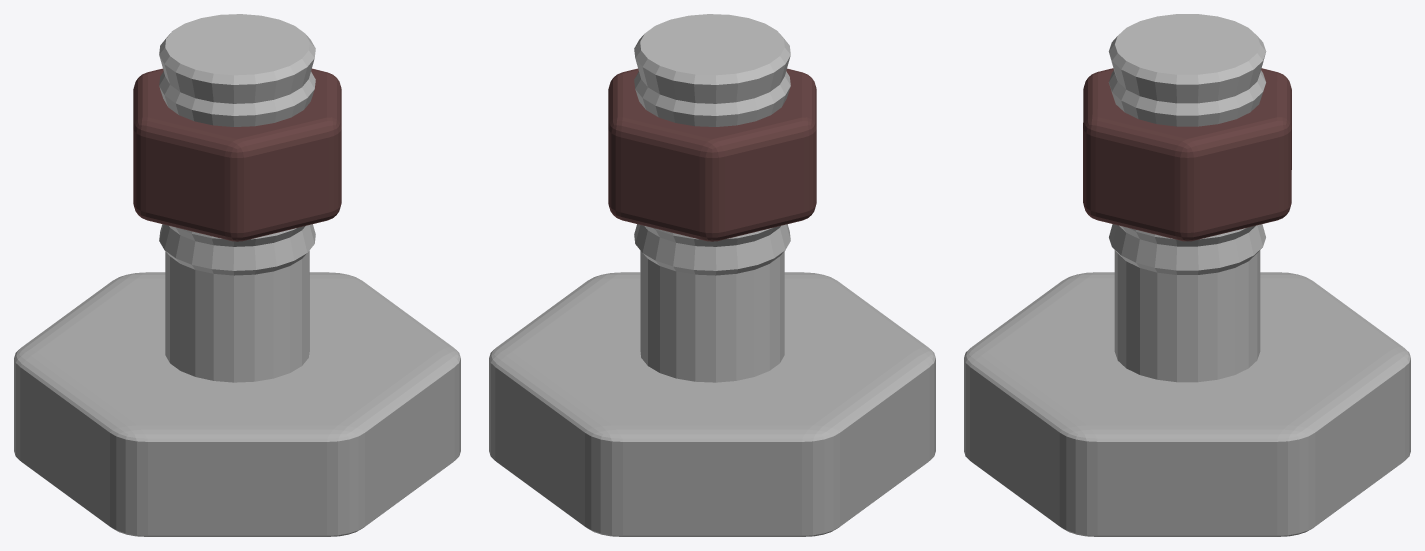
File: Bolt.fbx
The picture shows the model from 3 angles, left to right: view 1: azimuth 30°, elevation 25°; view 2: azimuth 150°, elevation 25°; view 3: azimuth 270°, elevation 25°; orthographic projection.
Visible parts, largest first — view 1: Cylinder, Cylinder.001, Cylinder.002; view 2: Cylinder, Cylinder.001, Cylinder.002; view 3: Cylinder, Cylinder.001, Cylinder.002.
Part boxes in pixels (x1,y1,x2,y2): Cylinder: (14,272,460,536); Cylinder.001: (159,14,315,382); Cylinder.002: (133,68,341,241); Cylinder: (489,272,935,536); Cylinder.001: (634,14,790,382); Cylinder.002: (608,68,816,241); Cylinder: (964,272,1410,536); Cylinder.001: (1108,14,1266,382); Cylinder.002: (1083,68,1291,241).
Size of the model in its own units: 146 by 167 by 163.
